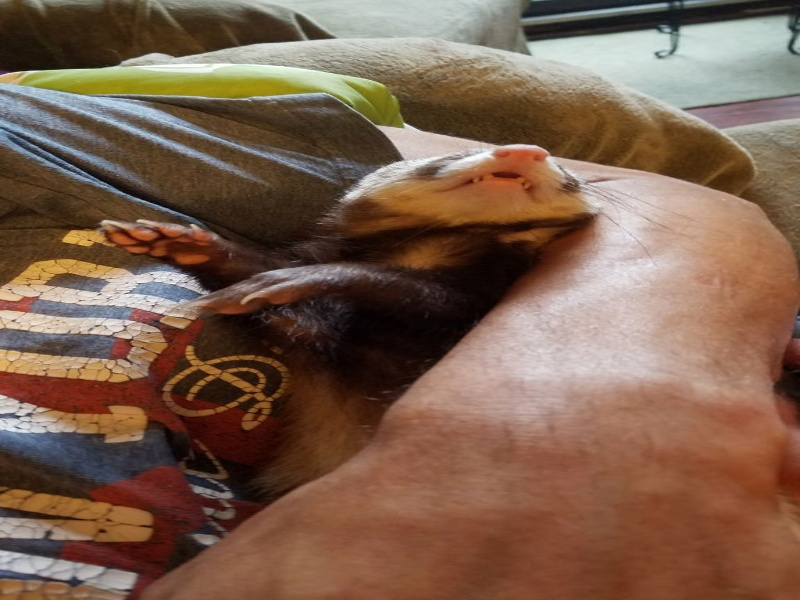minkish: (99, 135, 603, 367)
